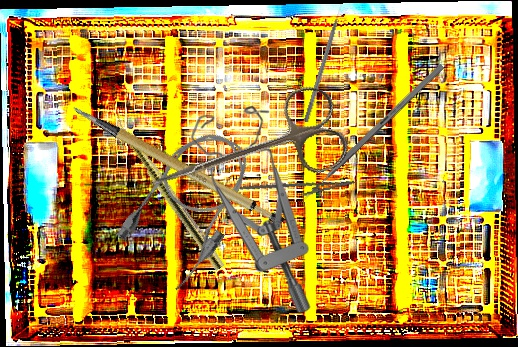Cannula: (109, 115, 272, 296)
Handpiece: (108, 110, 227, 272)
Hook Surgical: (303, 3, 346, 123)
Iris Scissors: (138, 79, 354, 229)
Needle Holder: (239, 166, 357, 213)
Pusher: (297, 63, 445, 206)
Scalpel Handle: (71, 74, 287, 252)
Speculum: (190, 106, 313, 313)
